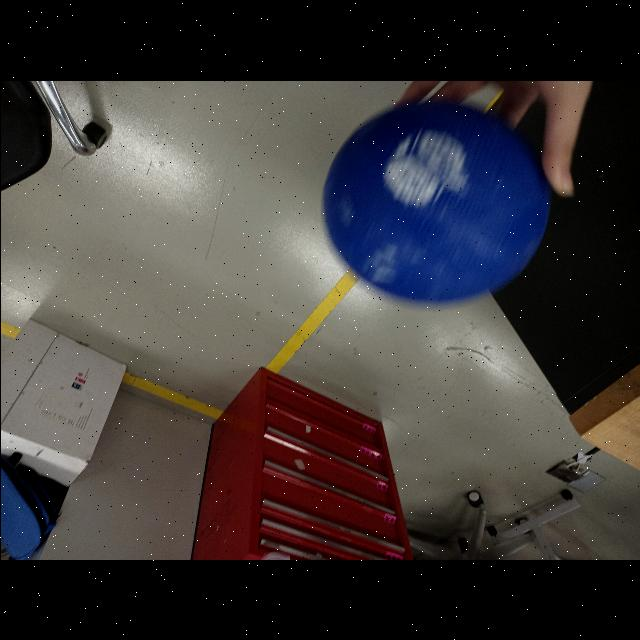B: (319, 103, 547, 300)
